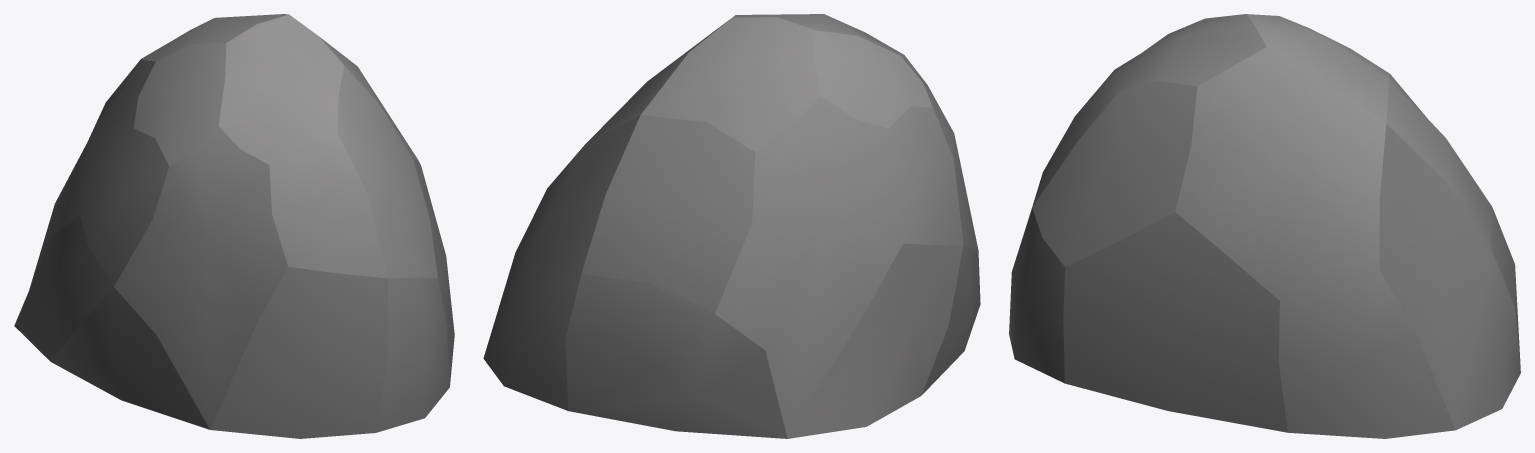
Rendered from stone 1.fbx.
3 views of the same model, side by side, from view 1: azimuth 30°, elevation 25°; view 2: azimuth 150°, elevation 25°; view 3: azimuth 270°, elevation 25° (orthographic).
Visible parts, largest first — view 1: stone 2; view 2: stone 2; view 3: stone 2.
Part boxes in pixels (x1,y1,x2,y2): stone 2: [14, 14, 454, 438]; stone 2: [483, 14, 980, 438]; stone 2: [1009, 14, 1520, 438].
Bounding box in the file's own units: 195 × 152 × 224.
